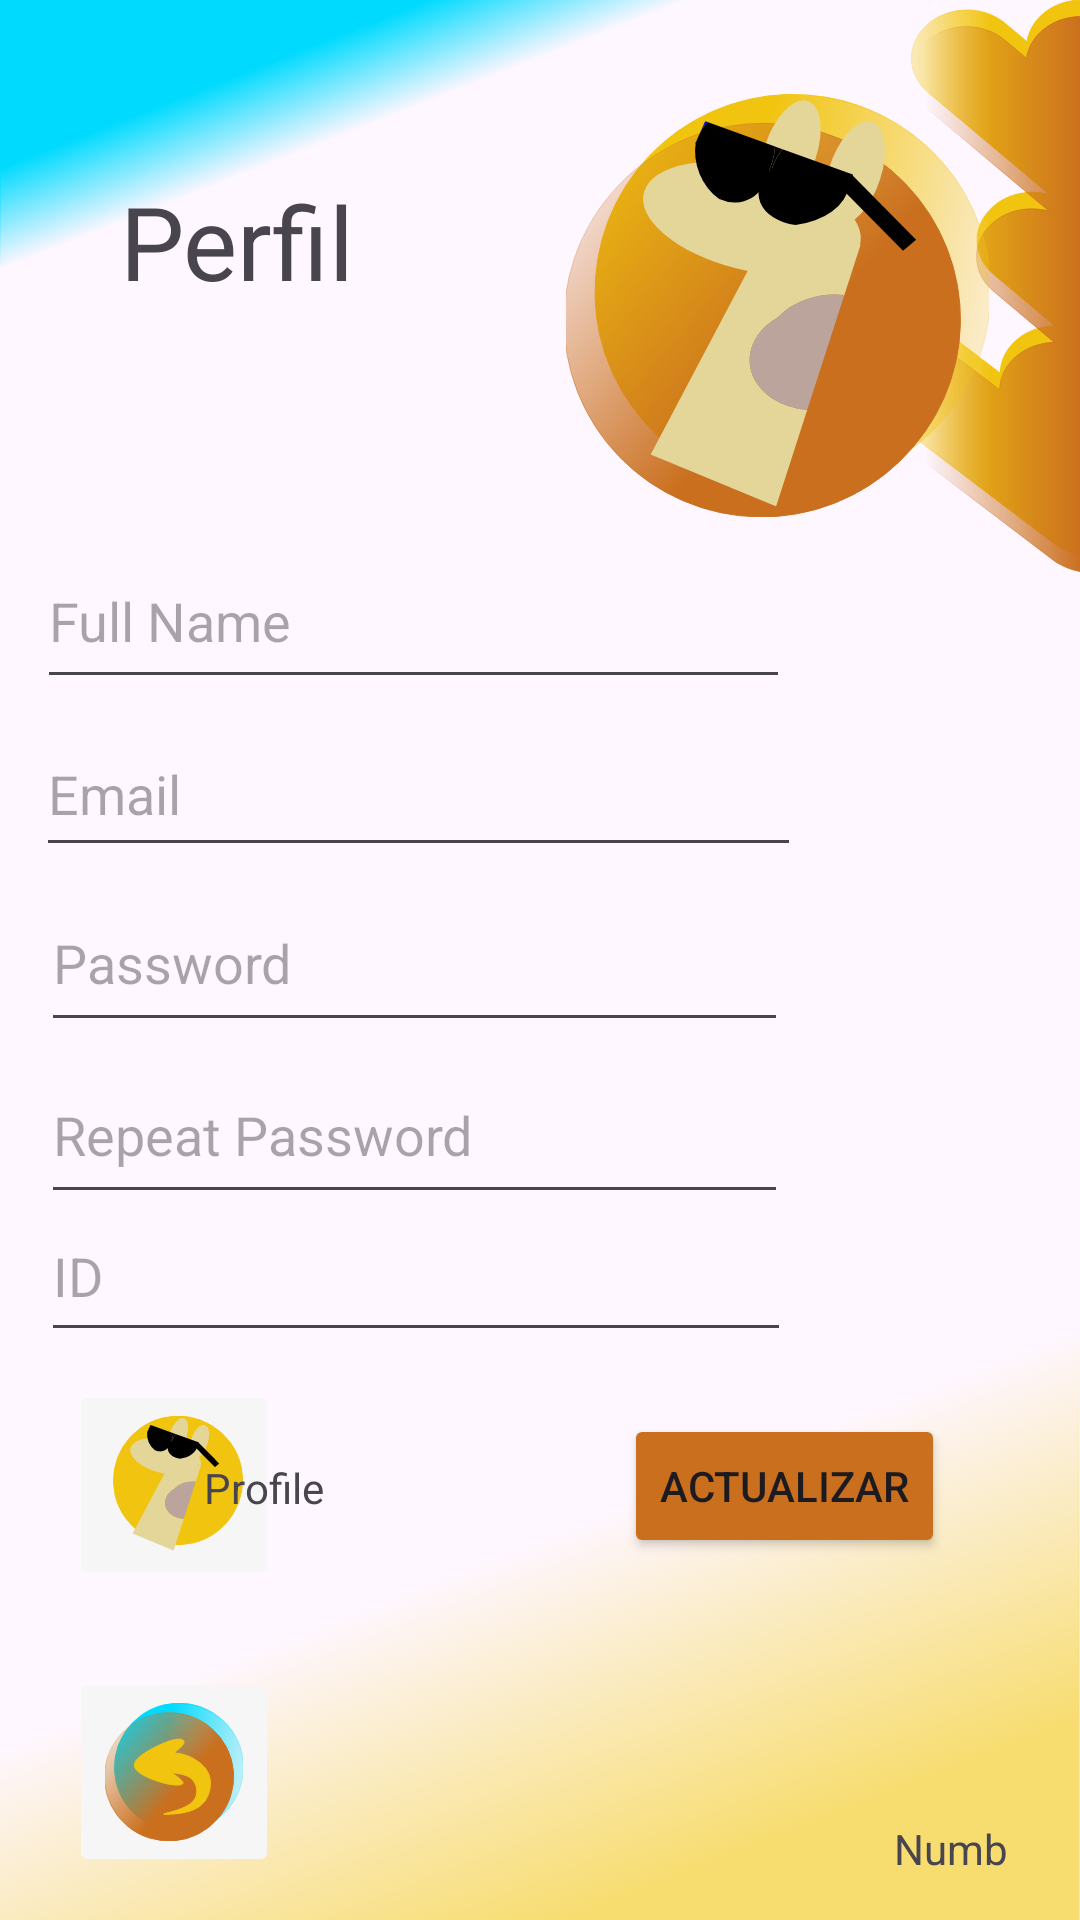

Icon click points for this 1080*1920 phone screenshot, format [x,y]:
bakcbutton: [174,1772]
